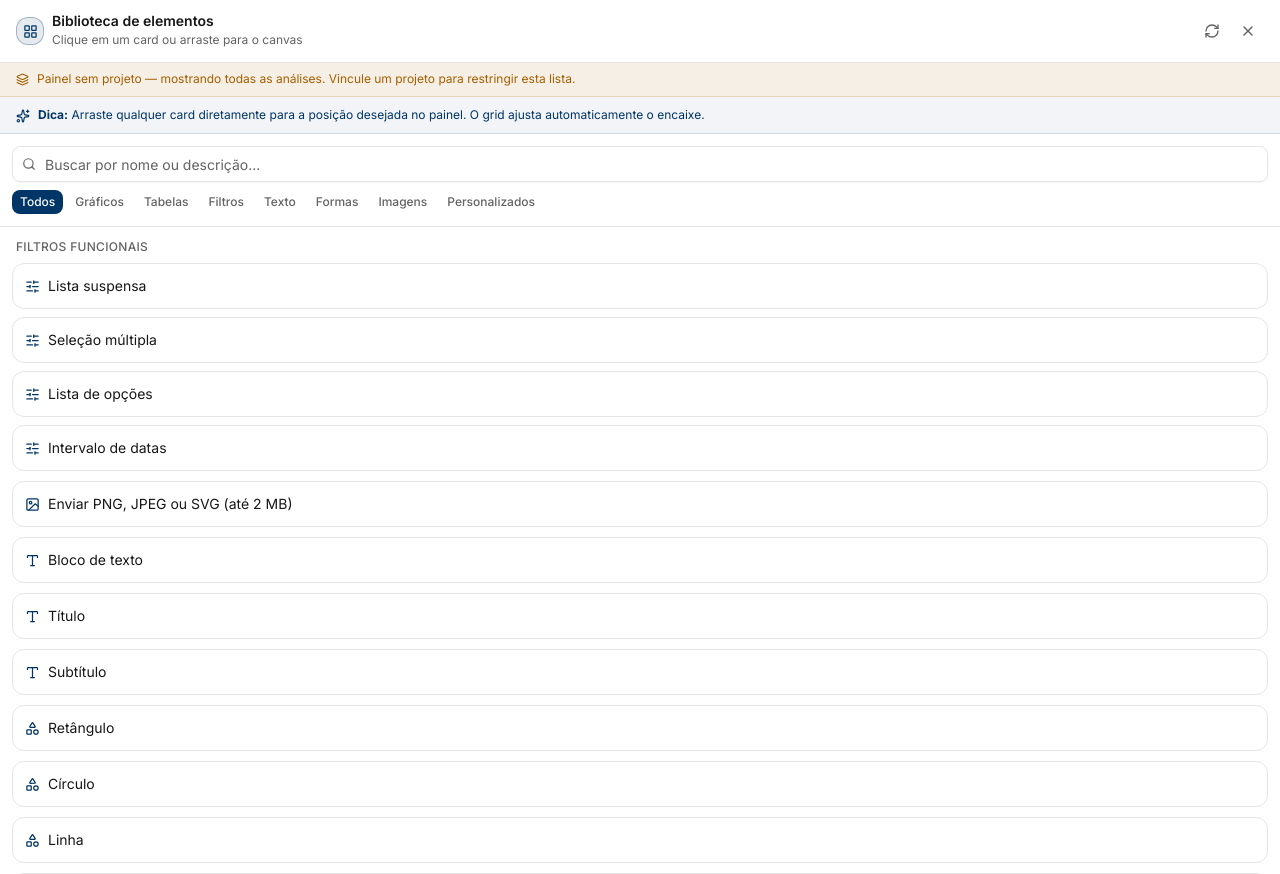
it: DashboardComponentsDrawer › filtra elementos da biblioteca pela busca
The width and height of the screenshot is (1280, 874).
In the field with placeholder "Buscar por nome ou descrição...": (640, 164) [12,146,1268,182], type "retângulo"
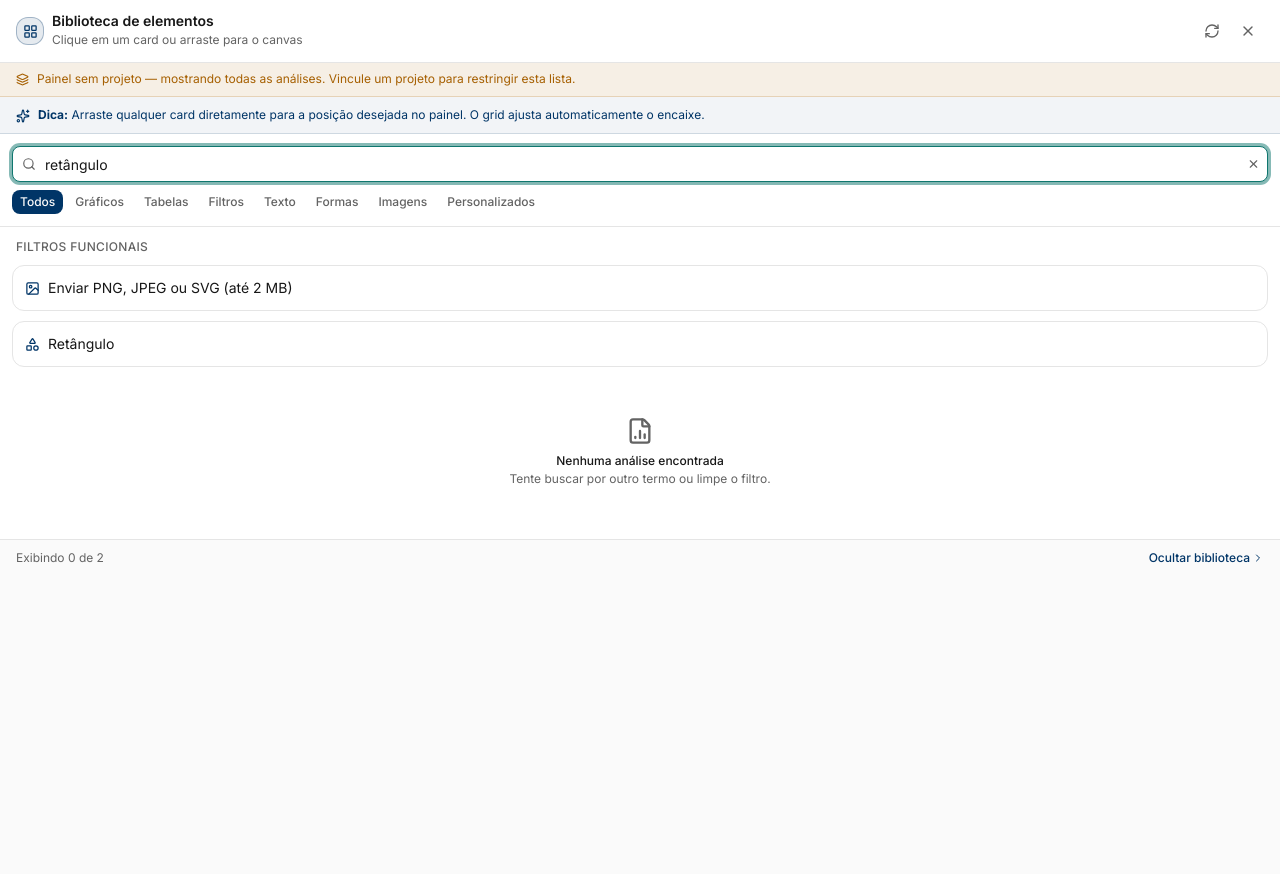
Check: the button "Retângulo" is shown, box [12,321,1268,367]
Check: the button "Bloco de texto" is gone
